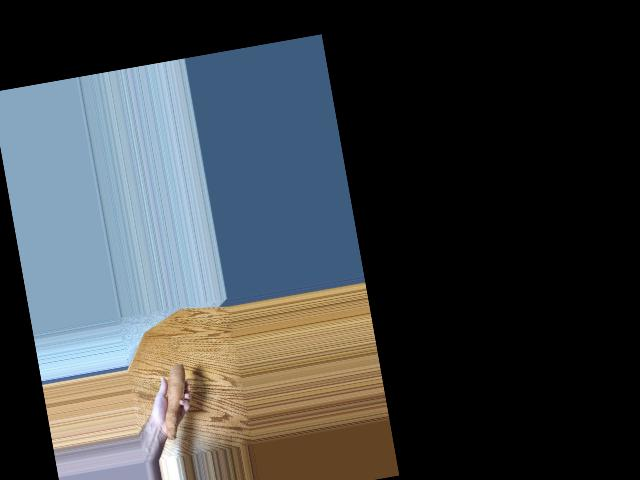sweet_potato: (155, 362, 200, 448)
